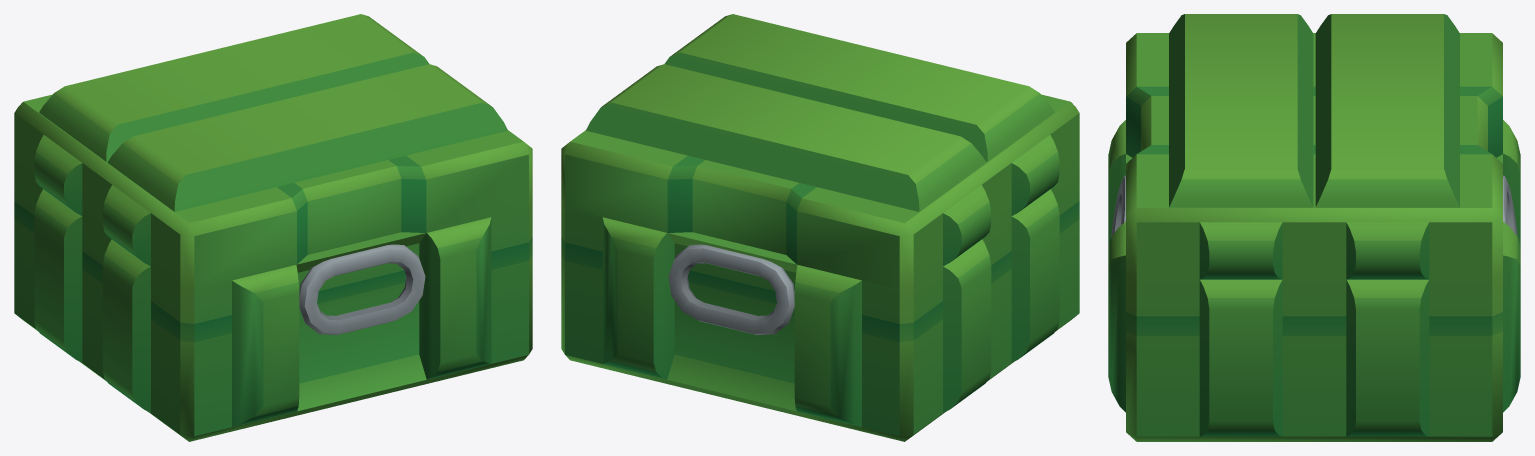
The model's file is prop_crate_small.glb.
3 views of the same model, side by side, from view 1: azimuth 30°, elevation 25°; view 2: azimuth 150°, elevation 25°; view 3: azimuth 270°, elevation 25° (orthographic). The views are drawn at different scales.
Visible parts, largest first — view 1: Containers_Crate_Small_Green; view 2: Containers_Crate_Small_Green; view 3: Containers_Crate_Small_Green.
Boxes of the visible parts, bbox=[...] form: Containers_Crate_Small_Green: bbox=[14, 14, 532, 441]; Containers_Crate_Small_Green: bbox=[561, 14, 1079, 441]; Containers_Crate_Small_Green: bbox=[1108, 14, 1520, 441].
Bounding box in the file's own units: 0.81 × 0.5003 × 0.71.
Materials: 1 (1 with a texture image).
